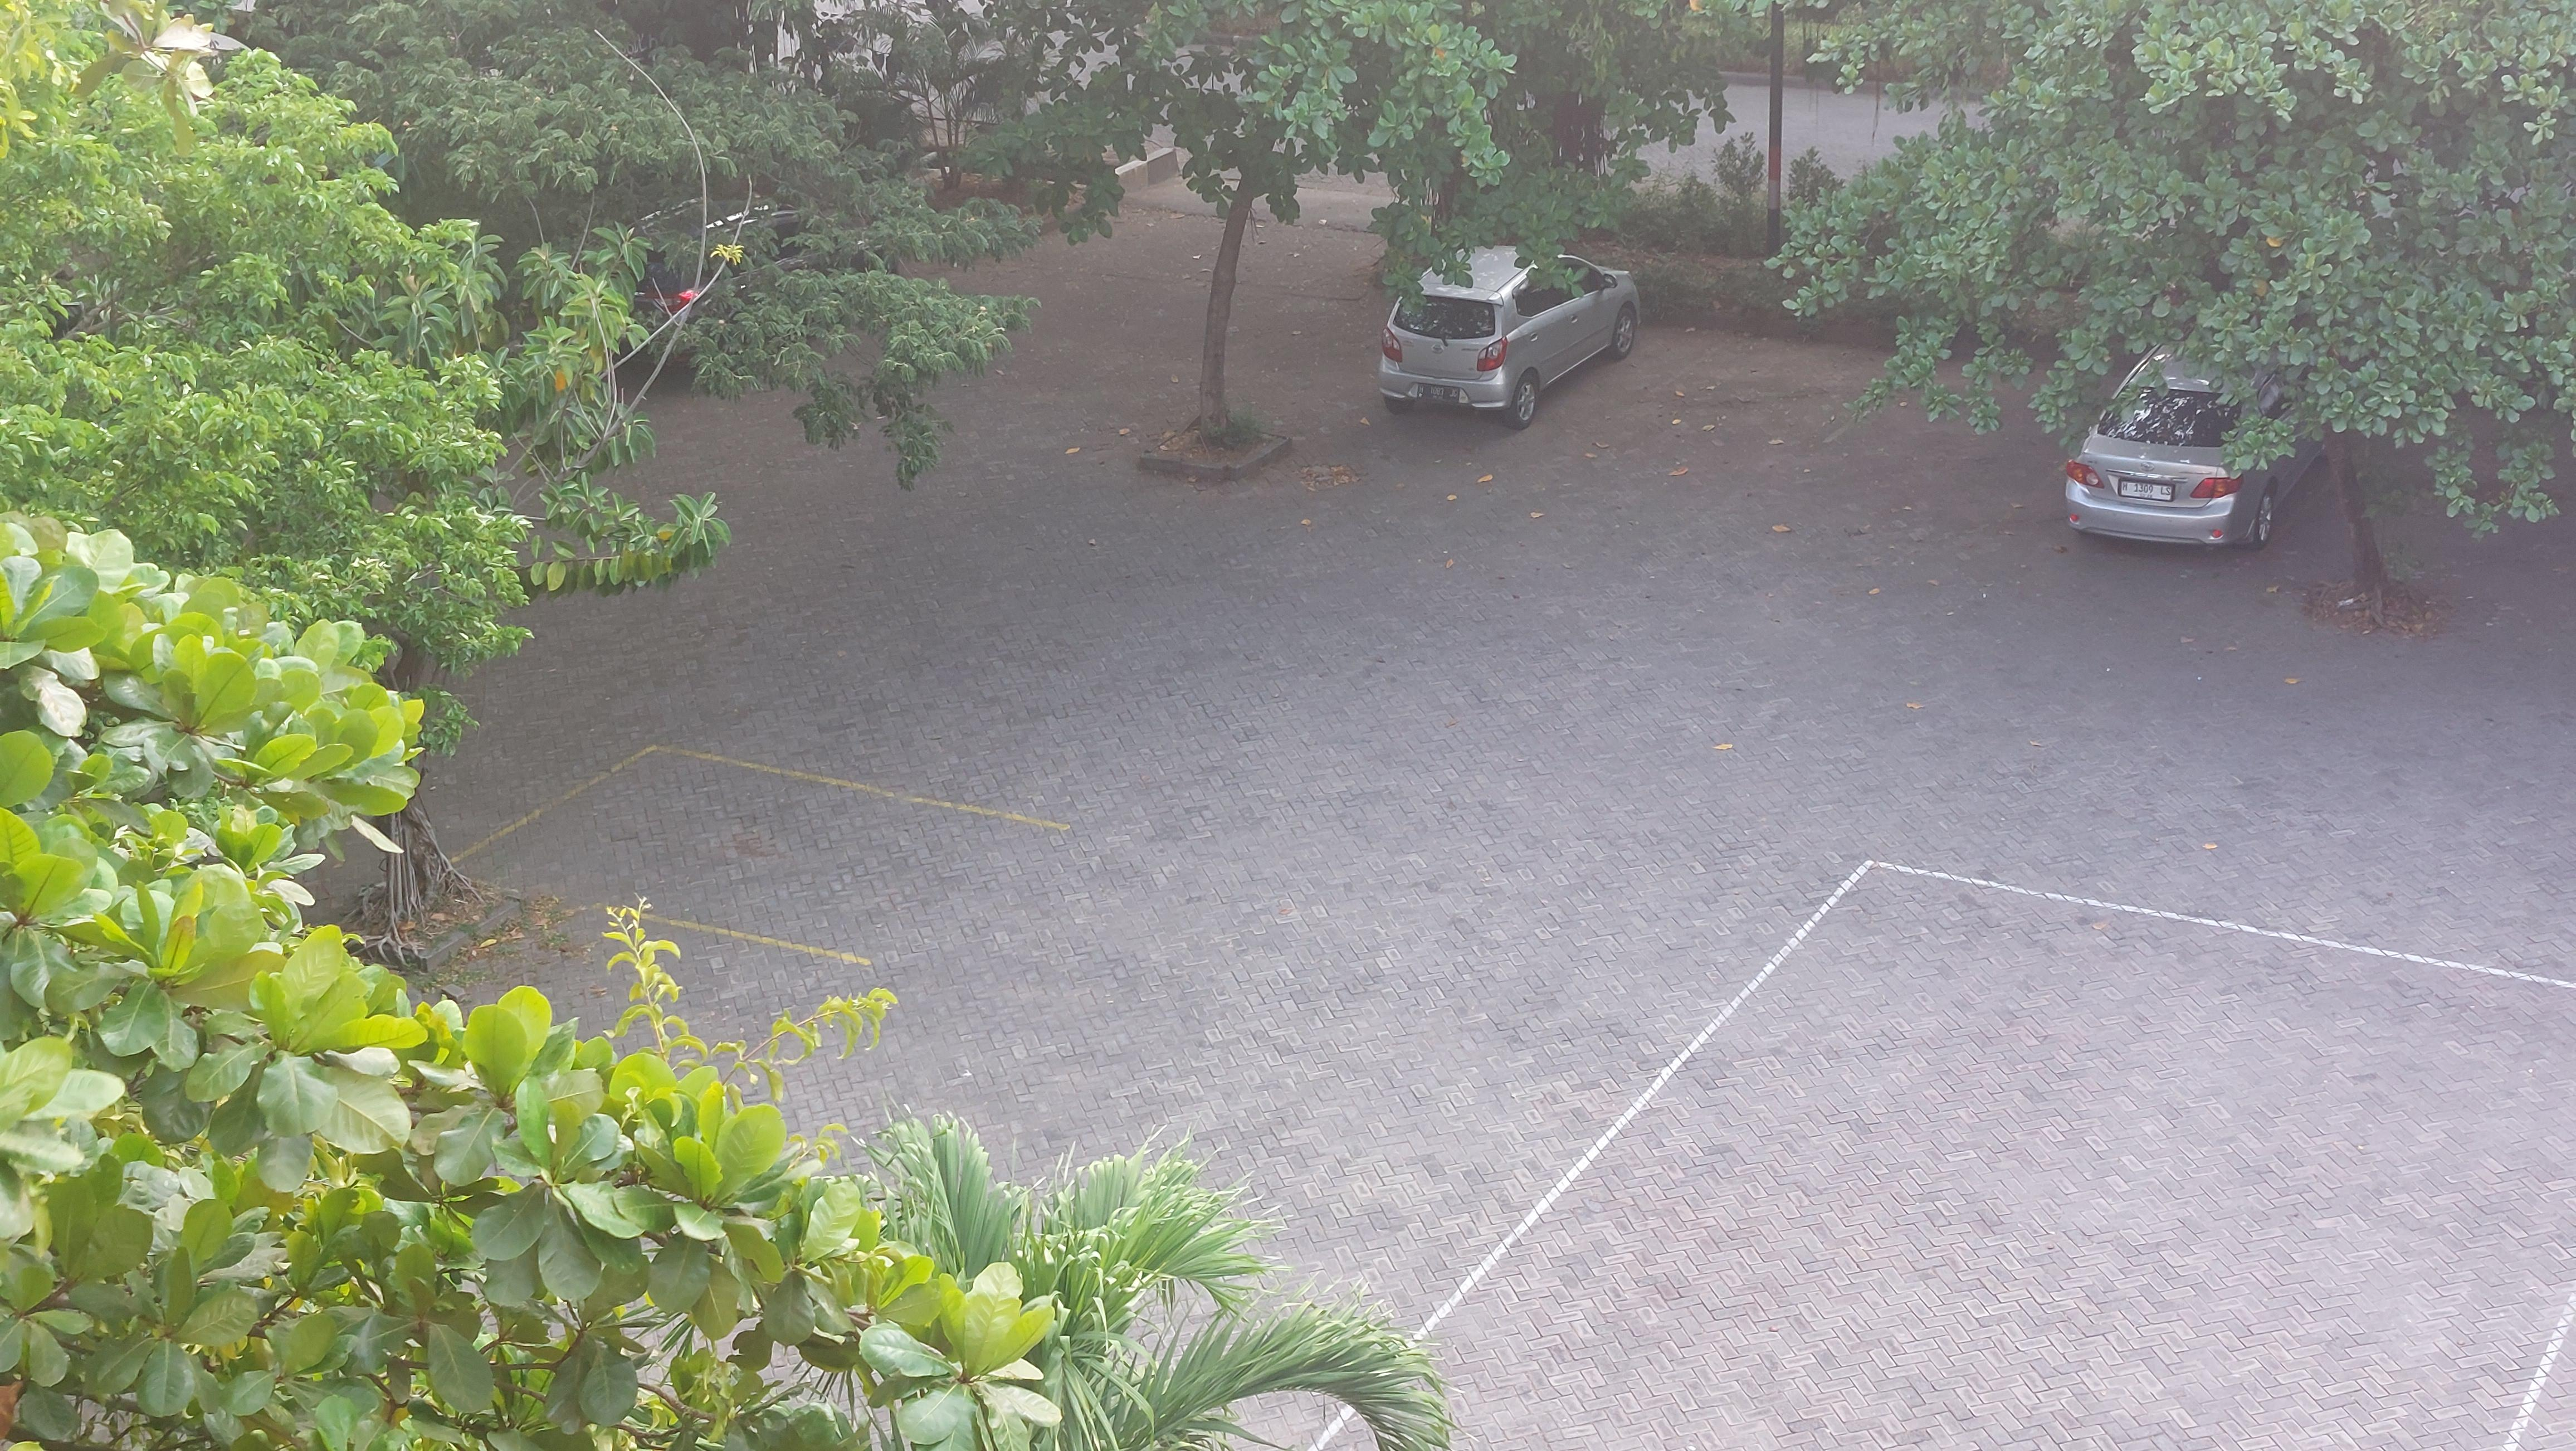empty: (431, 746, 1067, 965)
